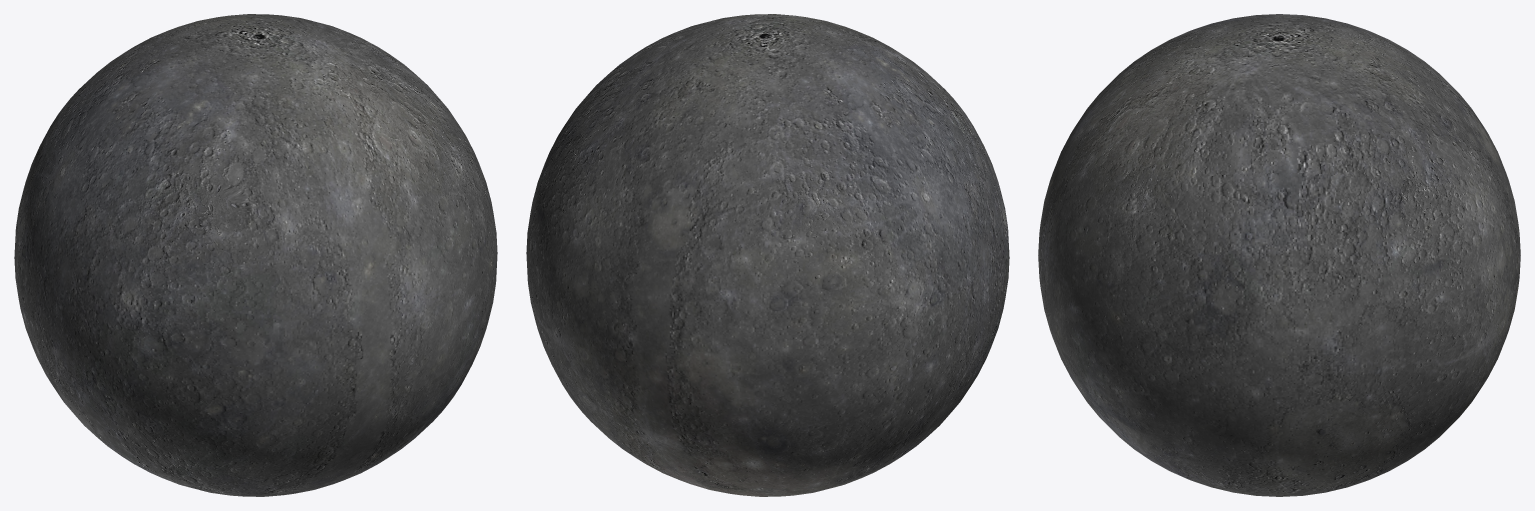
The model's file is mercury.glb.
3 views of the same model, side by side, from view 1: azimuth 30°, elevation 25°; view 2: azimuth 150°, elevation 25°; view 3: azimuth 270°, elevation 25° (orthographic).
Parts seen in each view (by area): view 1: Cube.008; view 2: Cube.008; view 3: Cube.008.
Boxes of the visible parts, x1,y1,x2,y2 form: Cube.008: [14, 14, 497, 496]; Cube.008: [526, 14, 1009, 496]; Cube.008: [1038, 14, 1520, 496].
Size of the model in its own units: 25 by 25 by 25.
2 materials, 1 textured.
